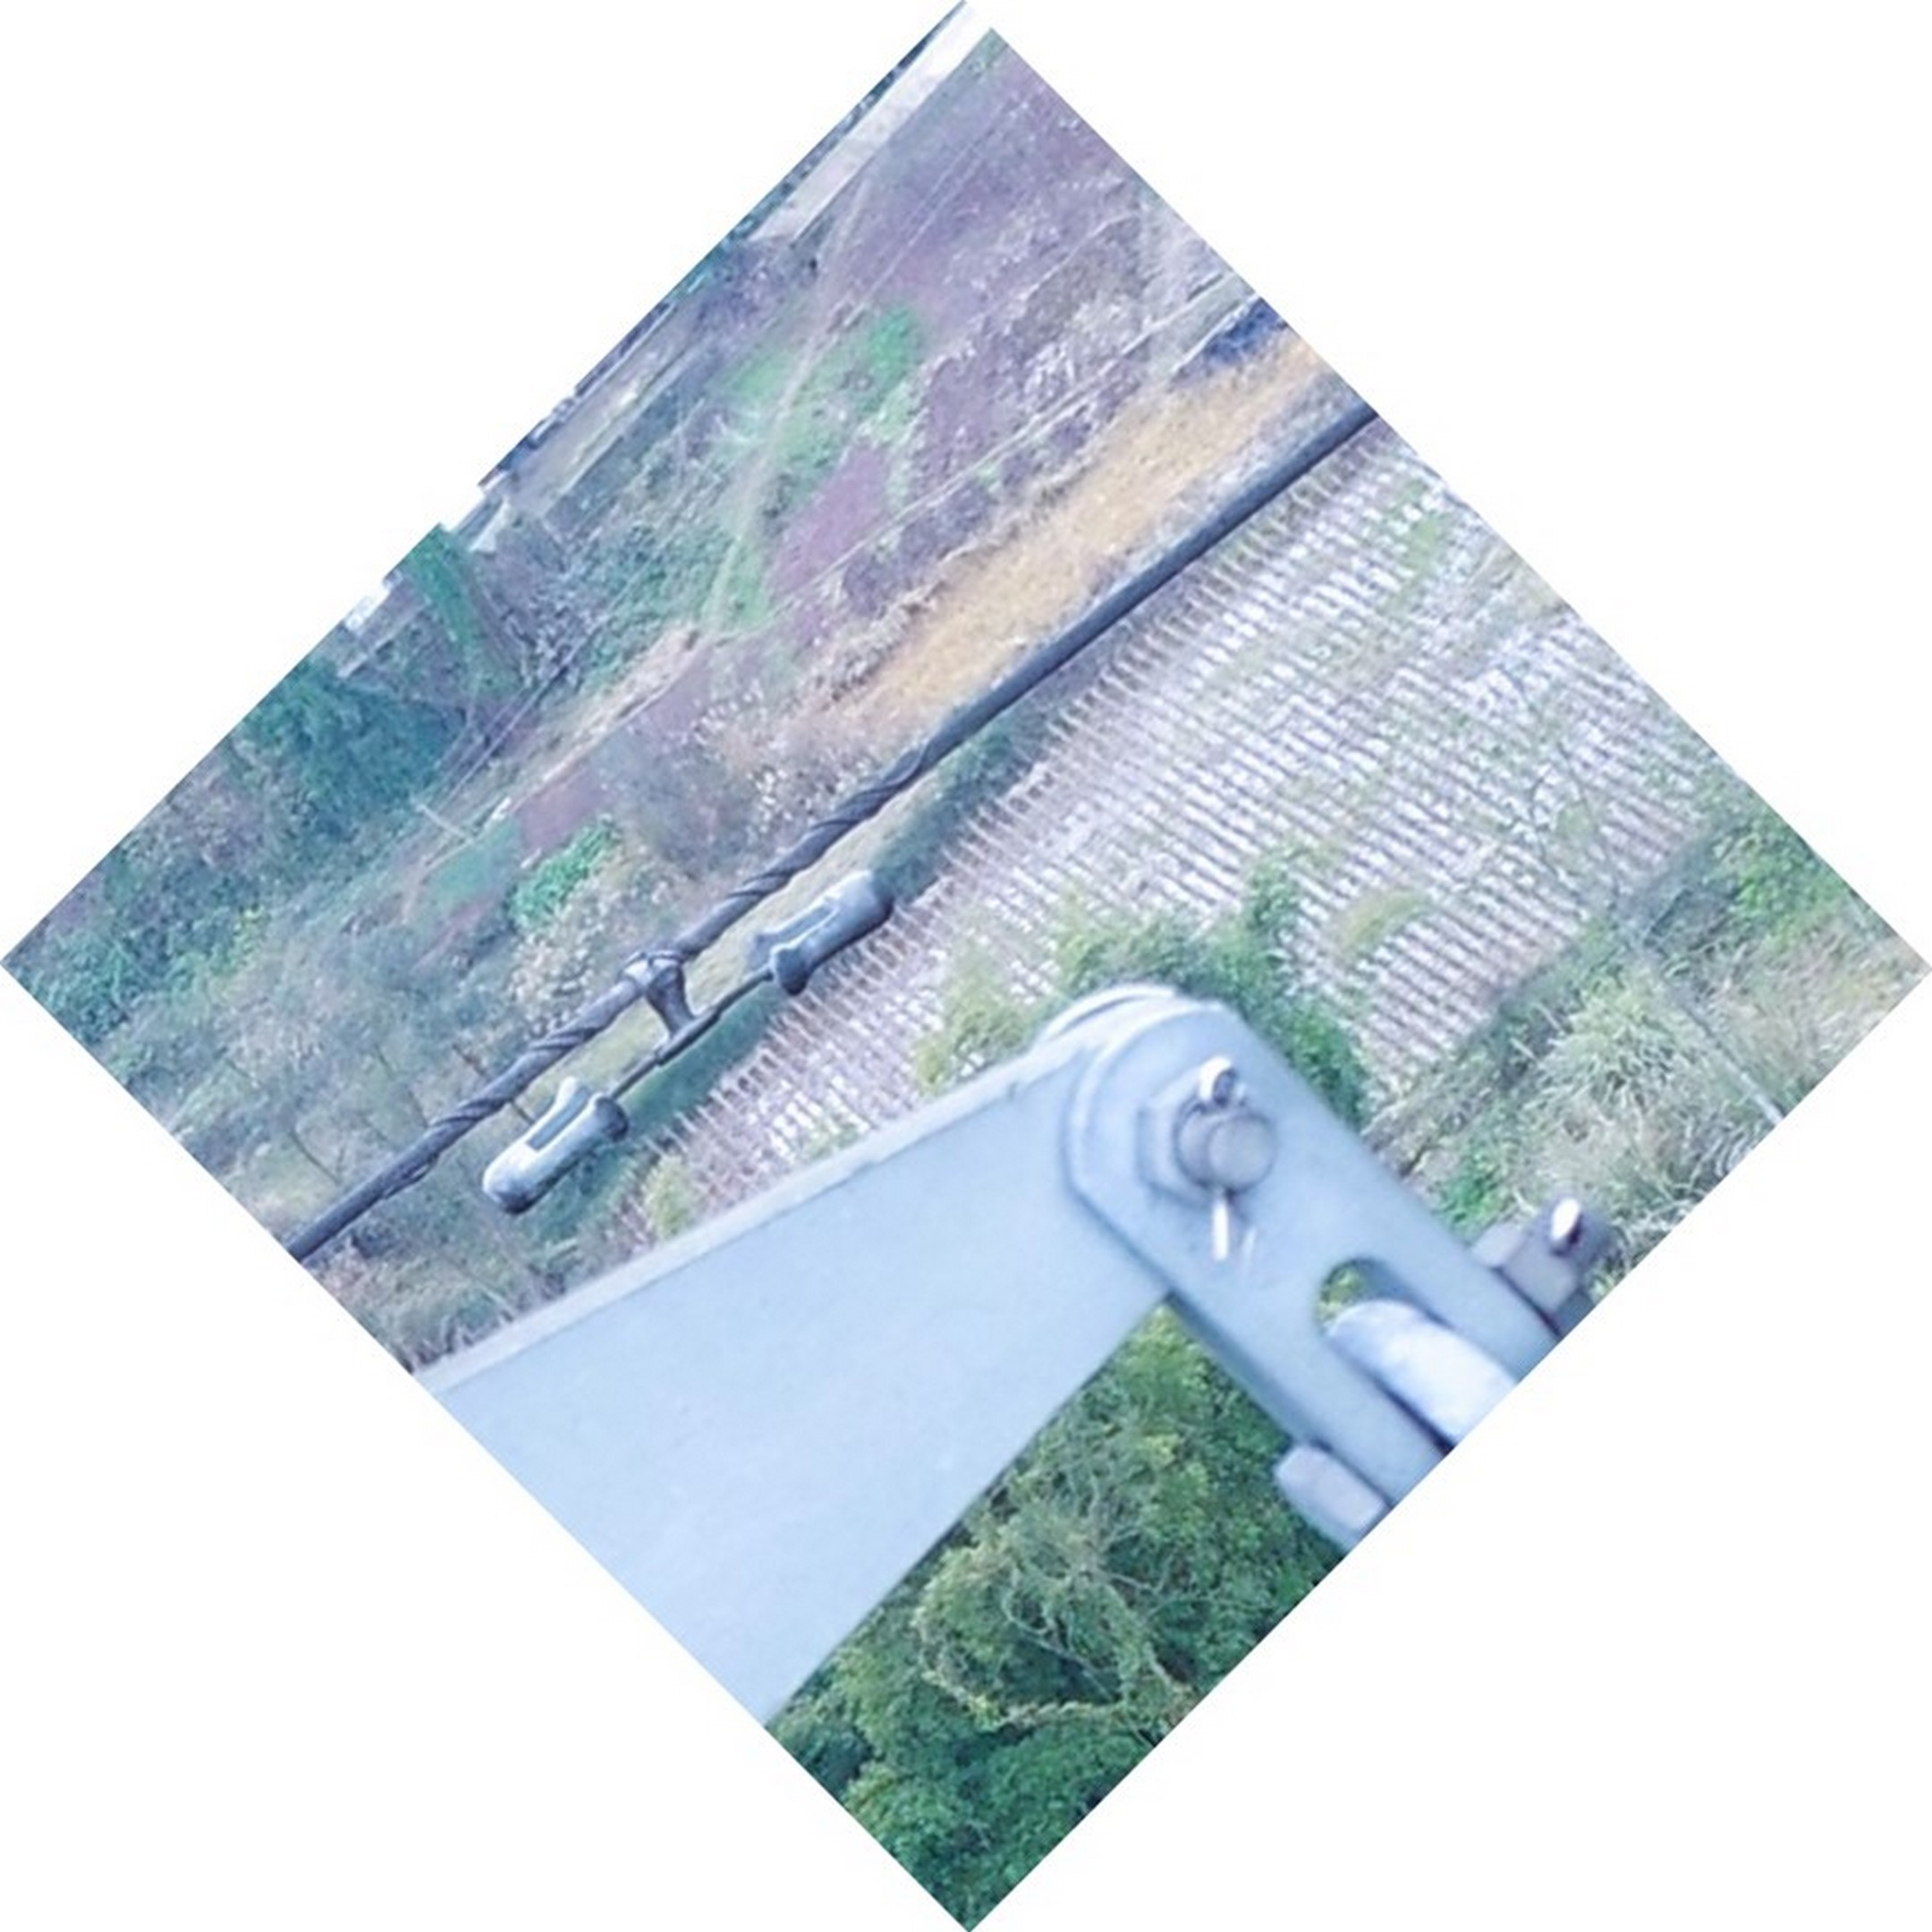Shockproof hammer: (455, 833, 922, 1228)
